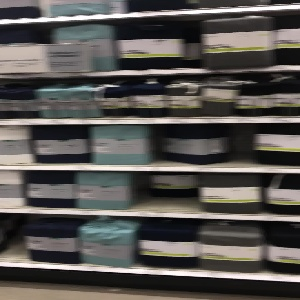void: (130, 172, 201, 212), (1, 211, 27, 263)
